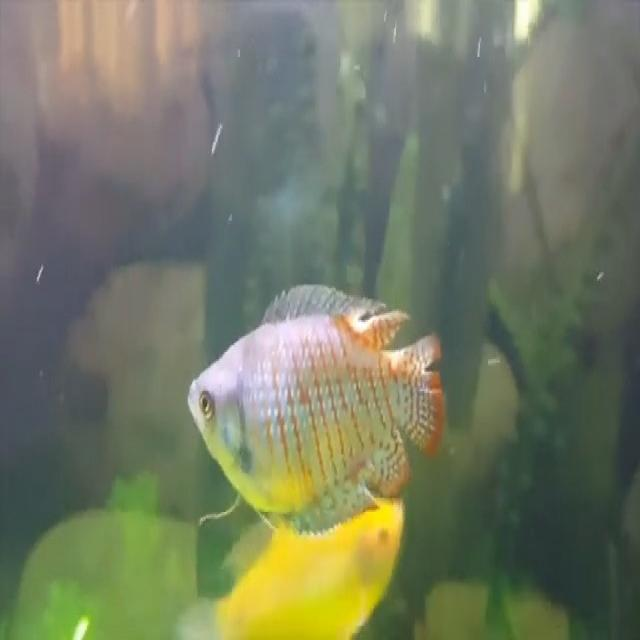fish: (184, 280, 448, 540)
